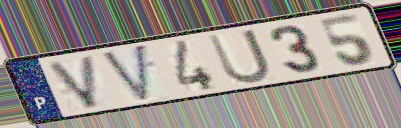3: (269, 24, 324, 75)
4: (173, 38, 217, 92)
5: (316, 11, 377, 68)
U: (204, 26, 274, 87)
V: (44, 52, 102, 111), (98, 41, 152, 104)
